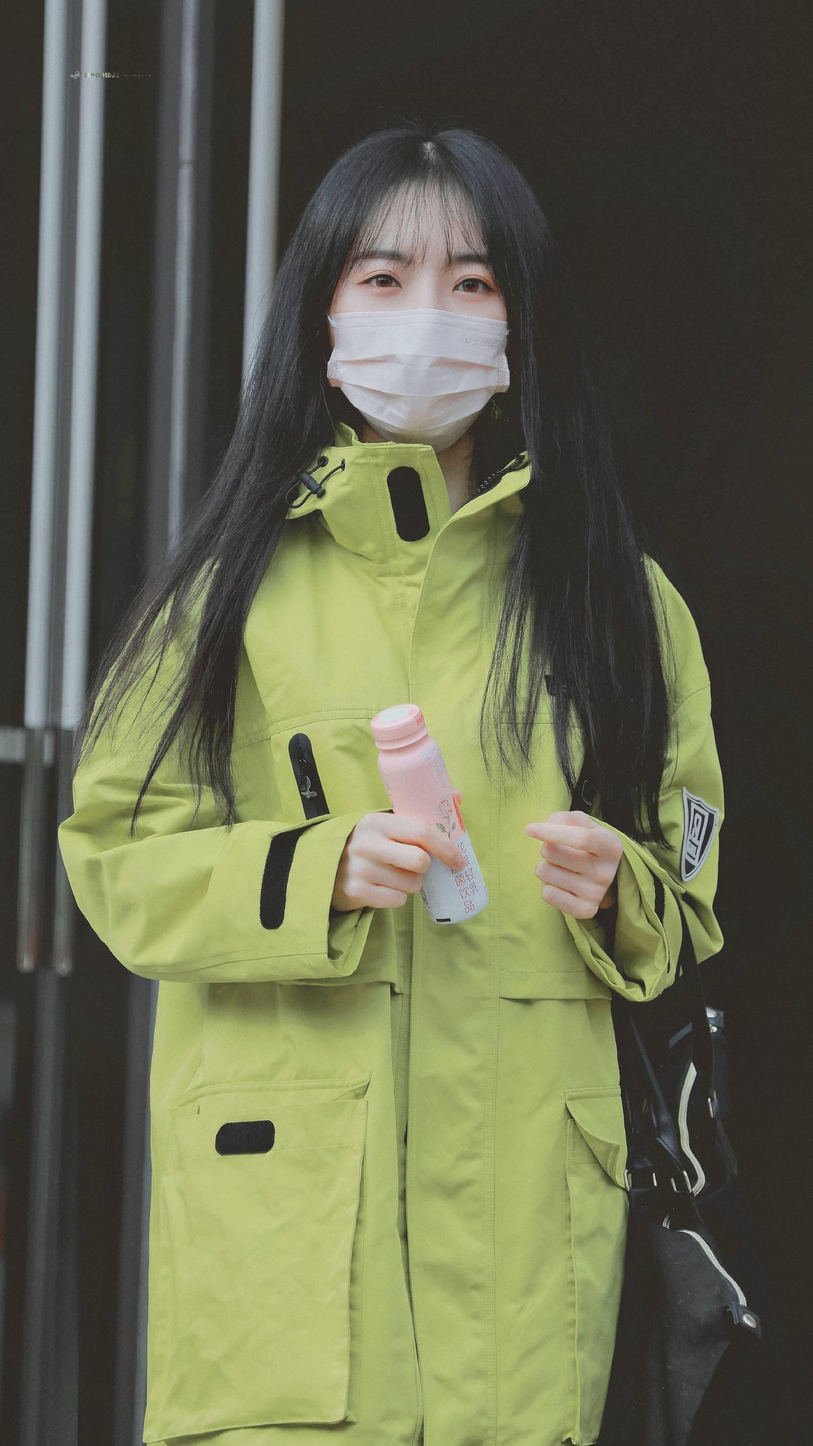OK: (329, 230, 512, 447)
